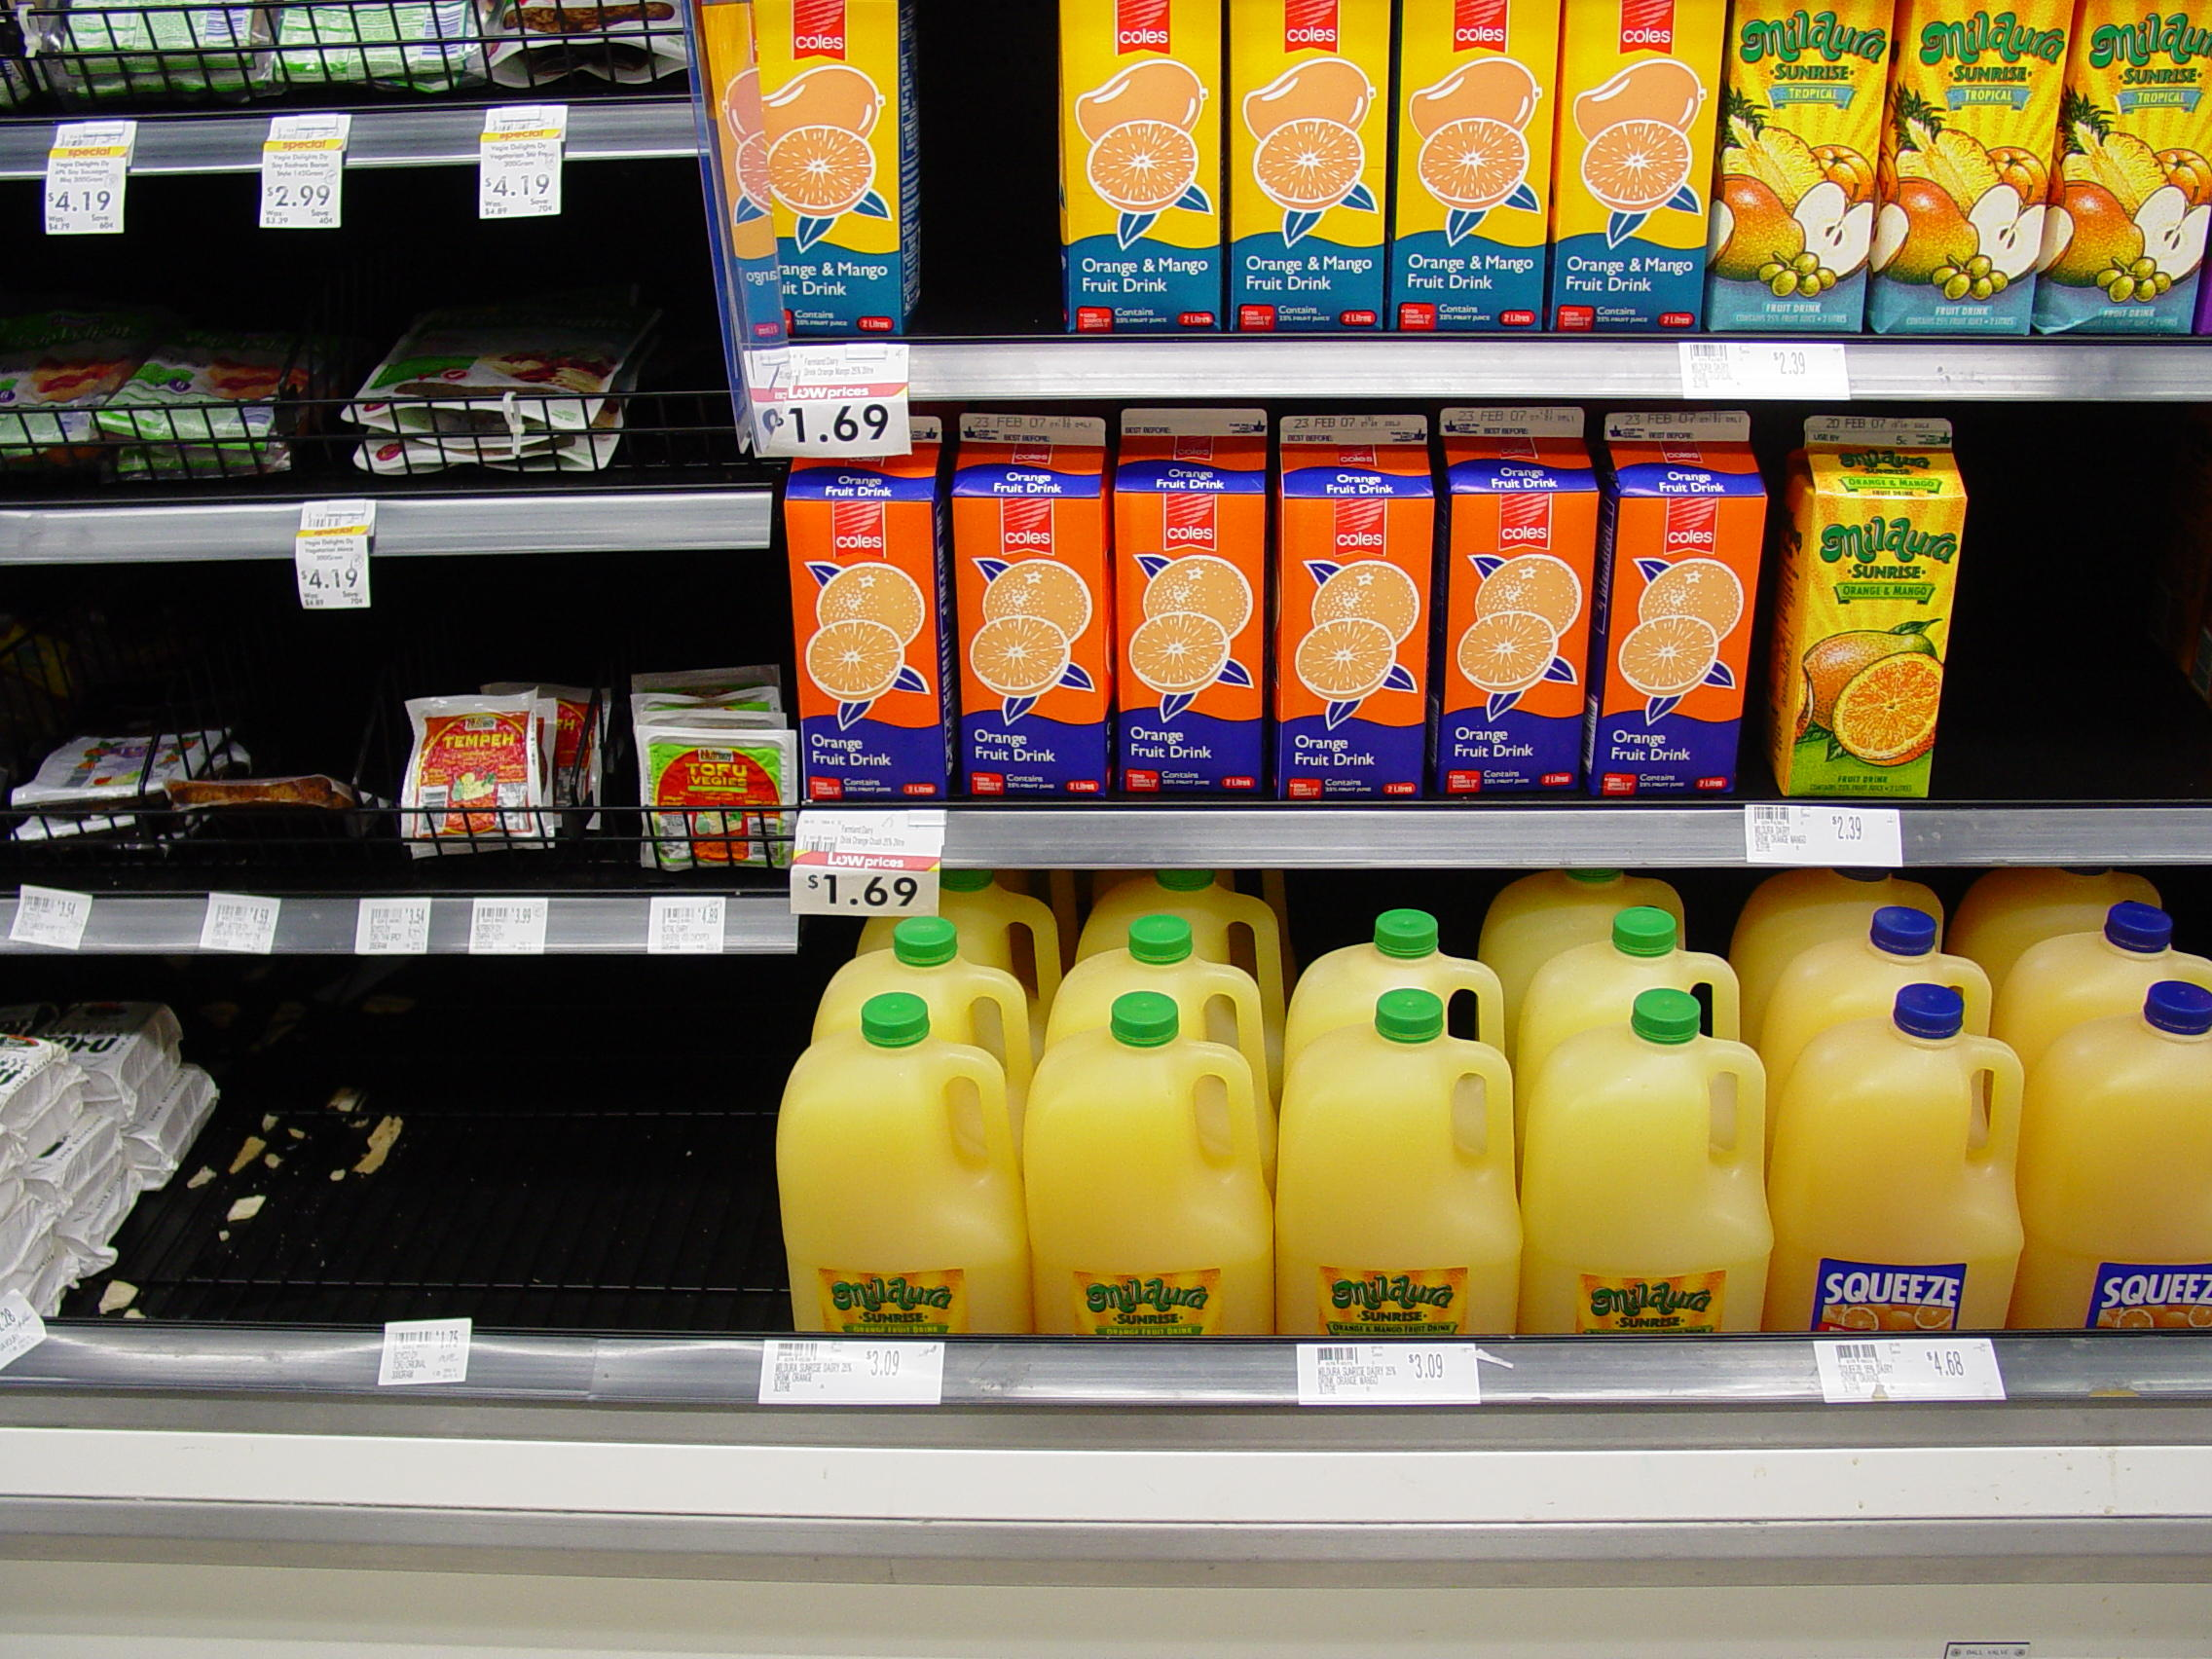Out-of-stock: (178, 958, 773, 1349), (1942, 411, 2191, 803), (920, 10, 1061, 343)
